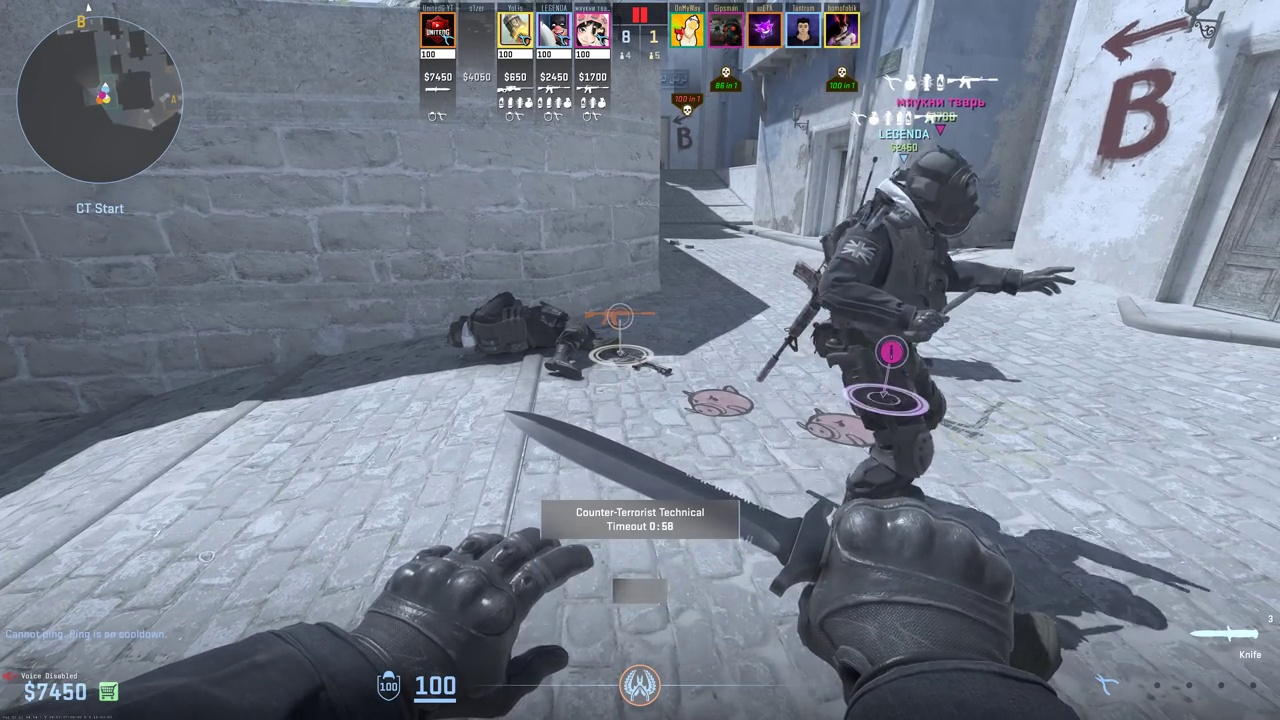CT: (817, 147, 981, 501)
